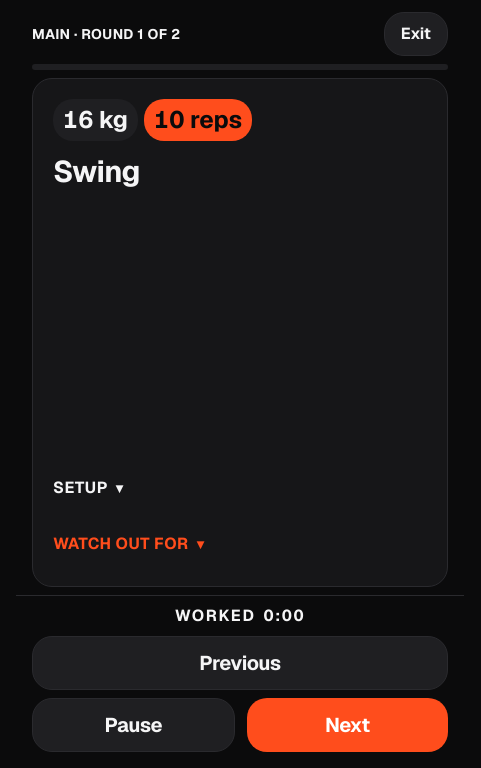
WorkoutRunner › goes back with no confirmation
The width and height of the screenshot is (481, 768).
Click the button "Next" at {"x": 347, "y": 725}, box [247,698,448,752]
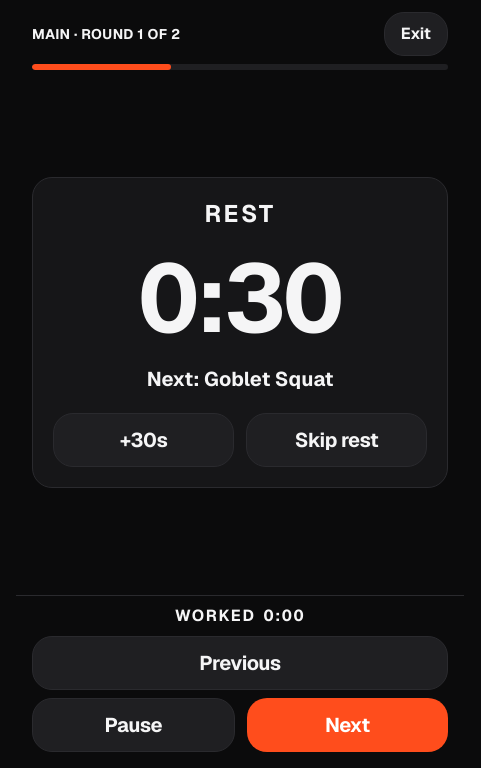
Click the button "Previous" at {"x": 240, "y": 663}, box [32,636,448,690]
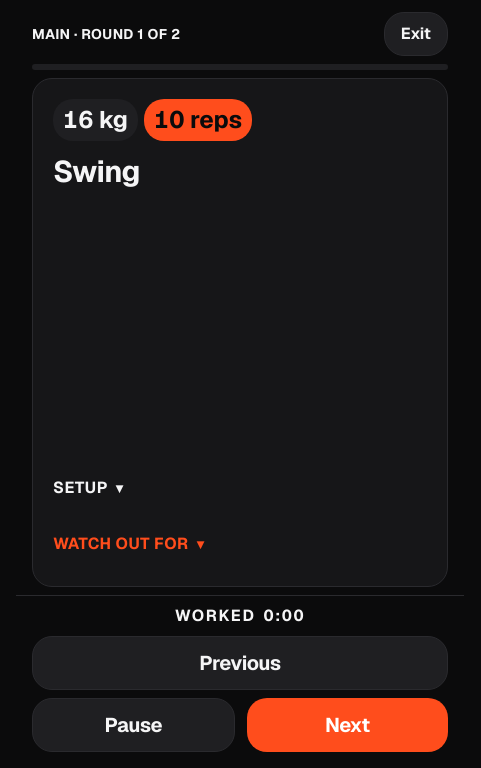
Check: the heading "Swing" is shown, box [53,152,140,191]
